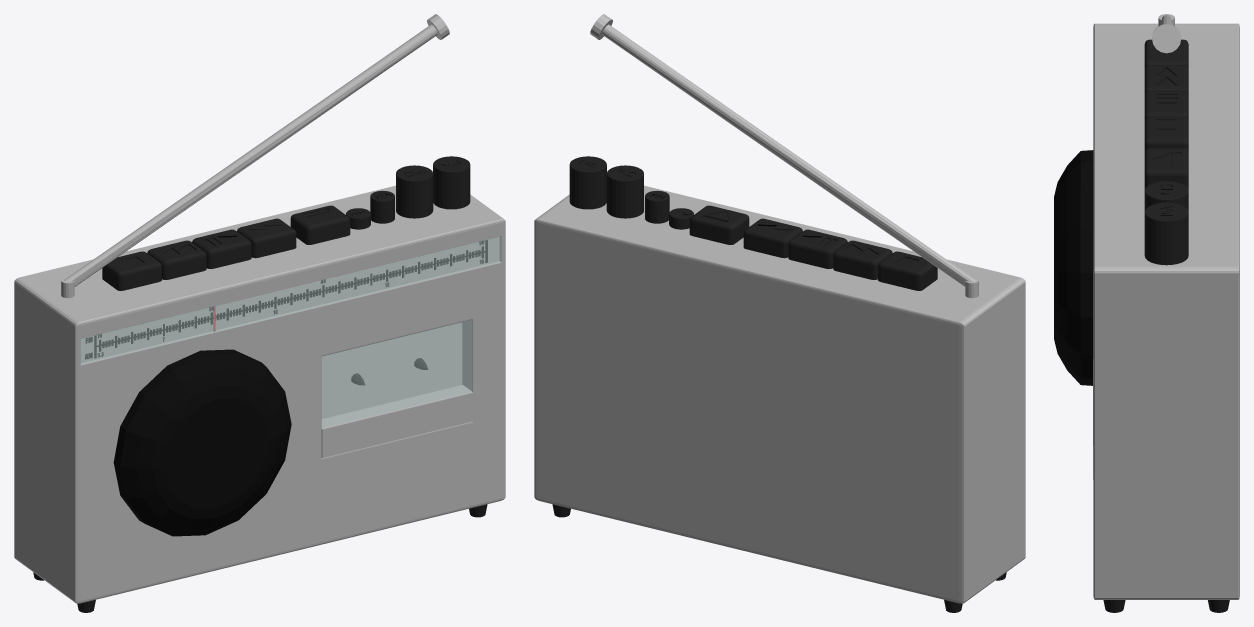
The model's file is 01_Radio.glb.
3 renders of one model, left to right at view 1: azimuth 30°, elevation 25°; view 2: azimuth 150°, elevation 25°; view 3: azimuth 270°, elevation 25°, orthographic. The views are drawn at different scales.
Parts seen in each view (by area): view 1: 00_Radio_Body.001, 01_Radio_Cover; view 2: 00_Radio_Body.001; view 3: 00_Radio_Body.001.
Boxes of the visible parts, x1,y1,x2,y2 form: 00_Radio_Body.001: (14, 14, 505, 612); 01_Radio_Cover: (81, 236, 501, 428); 00_Radio_Body.001: (534, 14, 1025, 612); 00_Radio_Body.001: (1054, 14, 1239, 612).
Size of the model in its own units: 0.4 by 0.4326 by 0.1268.
Materials: 2 (1 with a texture image).
